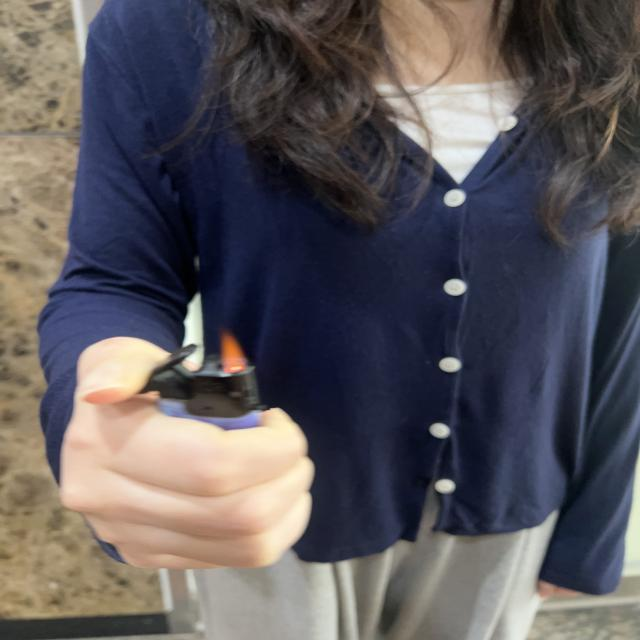fire: (214, 328, 250, 372)
